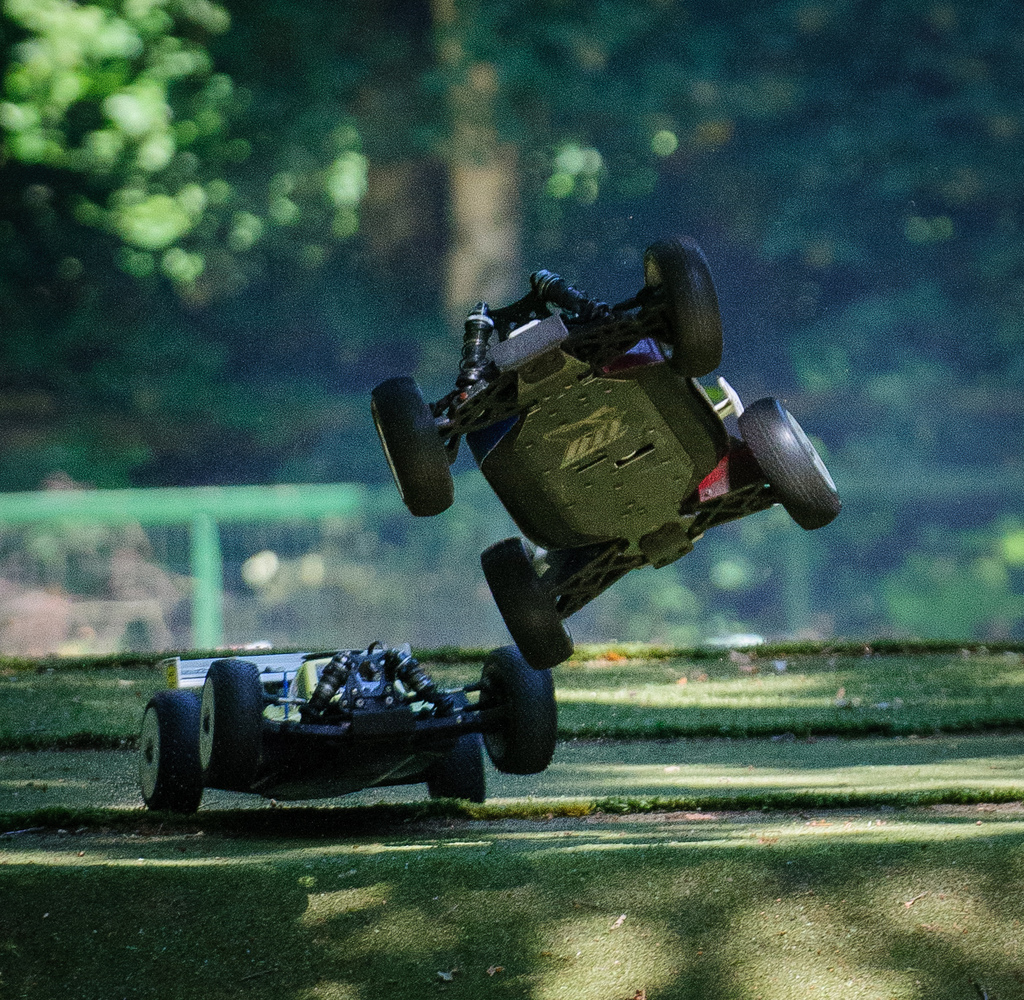Car: (368, 223, 844, 663), (126, 633, 561, 818)
